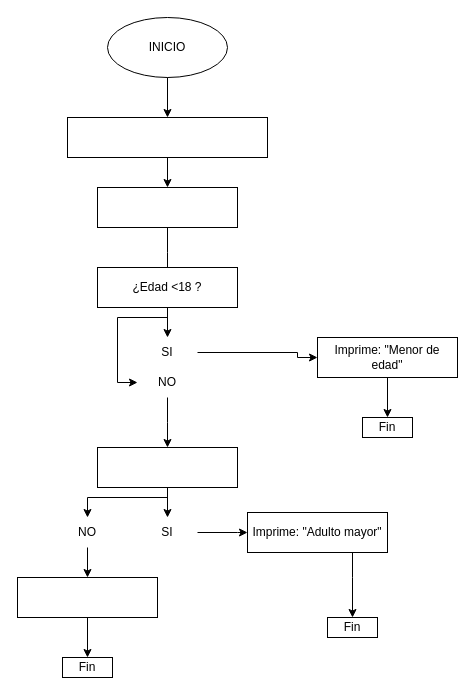
Image size: 475x695. Some labels were removed from this diagram. Here are the shapes that lost their labels. From the top down, the box of each, then its label:
(66, 116, 268, 158): Ingresa el usuario la edad
(96, 186, 238, 228): Proceso: Leer la edad
(96, 446, 238, 488): ¿Edad >= 65 ?
(16, 576, 158, 618): Imprime: "Mayor de edad"
